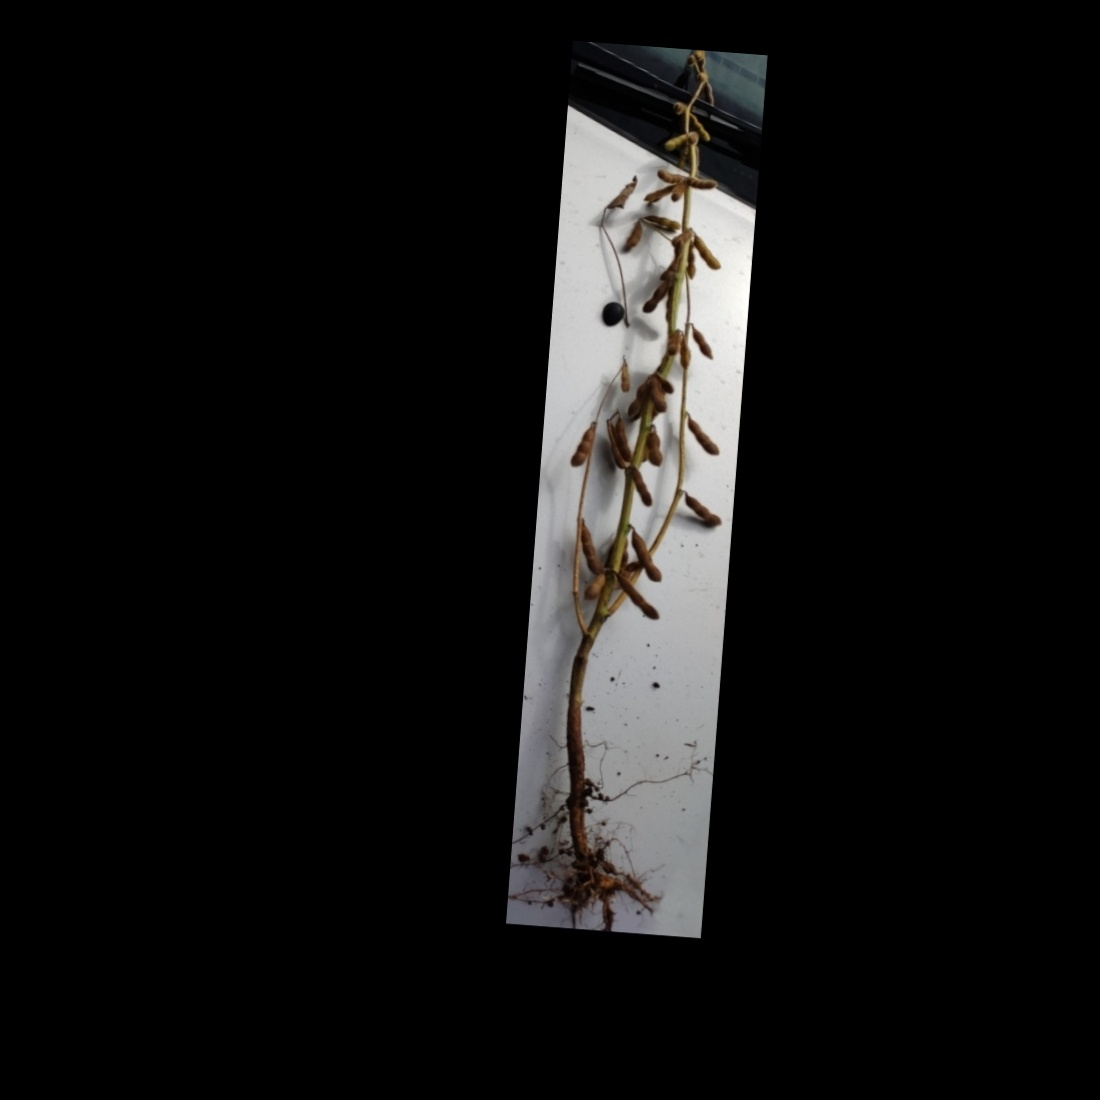pod: (610, 576, 667, 625), (625, 527, 670, 585), (682, 411, 725, 460), (679, 492, 729, 528), (576, 519, 607, 577), (637, 274, 671, 319), (690, 231, 726, 273), (566, 419, 594, 469), (687, 322, 719, 363), (629, 466, 658, 511), (643, 425, 668, 468), (640, 212, 686, 233), (662, 130, 691, 155), (683, 174, 720, 193)
soy: (516, 20, 765, 906)
